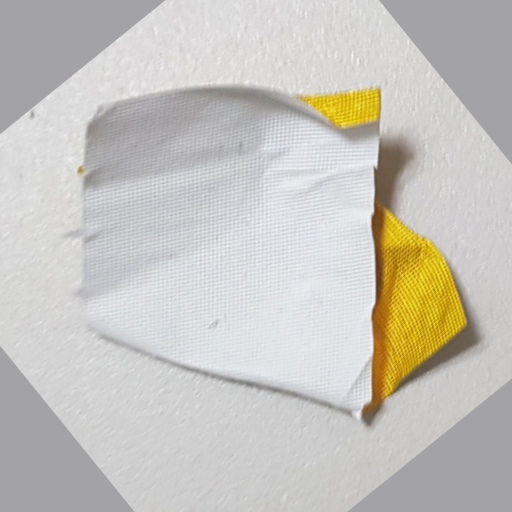Paper_3: (80, 90, 486, 430)
